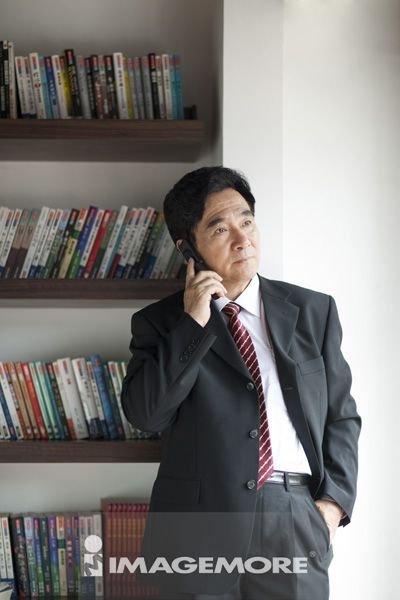talk: (175, 205, 258, 312)
